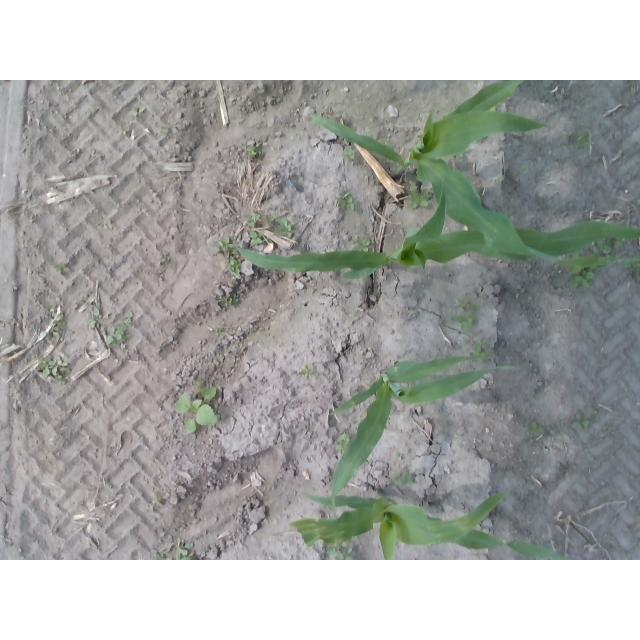Maize: (309, 80, 640, 268), (233, 184, 640, 280), (325, 355, 520, 510), (290, 488, 572, 560)
Weeds: (174, 381, 218, 434), (36, 354, 71, 384), (107, 311, 133, 350), (452, 297, 480, 331), (566, 265, 602, 290), (326, 540, 354, 560), (470, 339, 494, 362), (214, 237, 240, 258), (565, 130, 591, 150), (588, 237, 612, 258), (274, 218, 299, 238), (176, 537, 197, 560), (409, 185, 429, 208), (45, 317, 64, 340), (625, 254, 640, 282), (390, 470, 414, 487), (337, 190, 356, 210), (85, 304, 100, 328), (297, 364, 319, 380), (352, 235, 371, 252), (243, 211, 262, 228), (249, 231, 272, 245), (336, 432, 351, 453), (226, 256, 241, 277), (219, 293, 240, 308), (571, 413, 589, 428), (54, 259, 71, 274), (154, 548, 173, 561), (246, 143, 262, 156), (528, 422, 544, 435), (264, 213, 276, 227), (613, 238, 627, 249), (216, 327, 229, 338), (342, 150, 356, 160), (568, 249, 581, 259), (157, 254, 166, 266), (133, 106, 140, 119), (154, 495, 162, 506), (455, 151, 466, 158), (162, 125, 170, 134), (380, 138, 389, 146), (49, 306, 56, 315), (519, 166, 528, 172), (590, 408, 598, 414), (396, 454, 402, 461)
